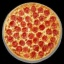pepperoni: (17, 16, 45, 32), (24, 6, 50, 21), (25, 27, 42, 47), (18, 45, 42, 57), (7, 37, 23, 51), (40, 29, 60, 40)
pizza: (3, 2, 59, 61)
